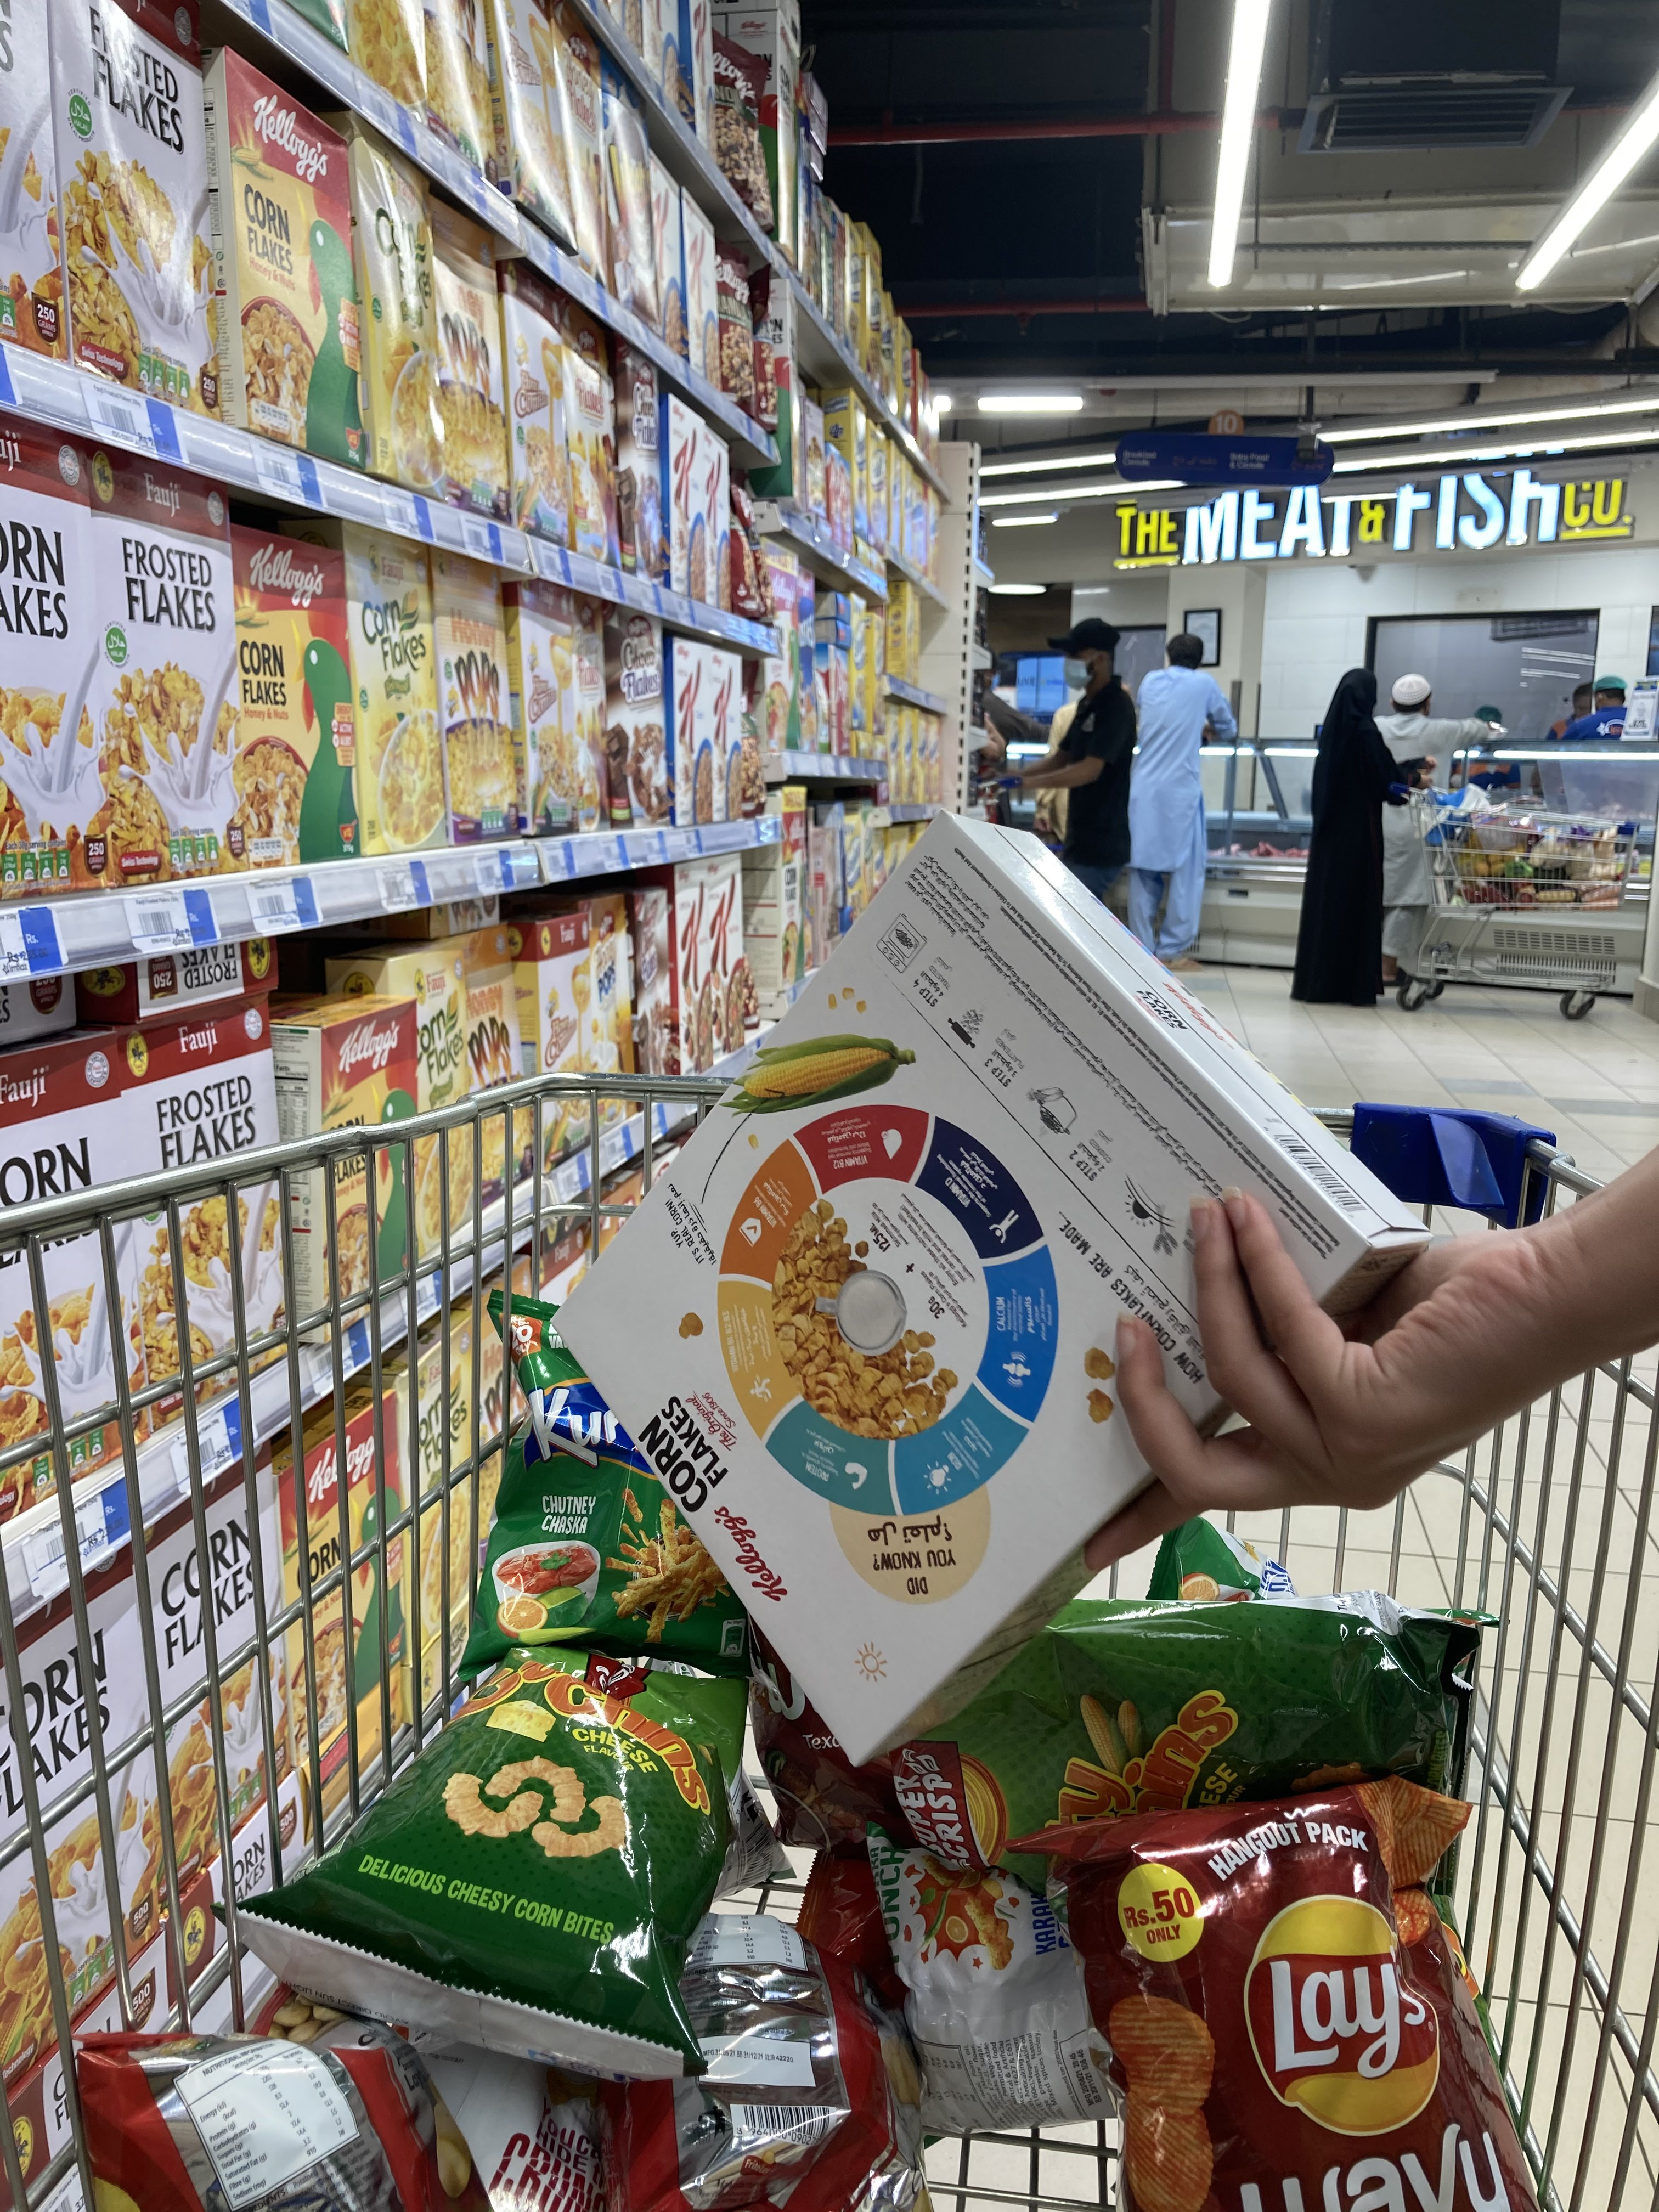Kellogg's Corn Flakes: (533, 815, 1431, 1764)
